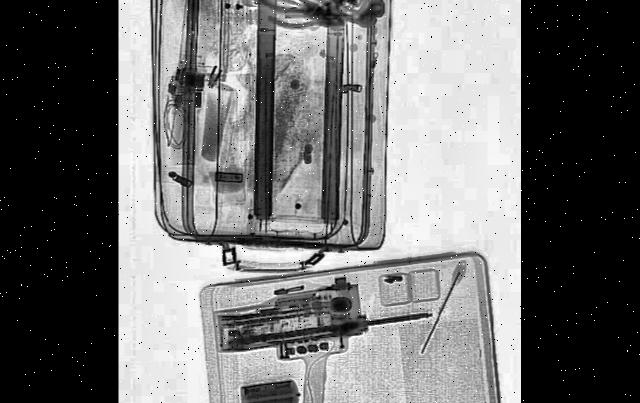Pliers: (242, 0, 331, 36), (266, 0, 341, 42)
